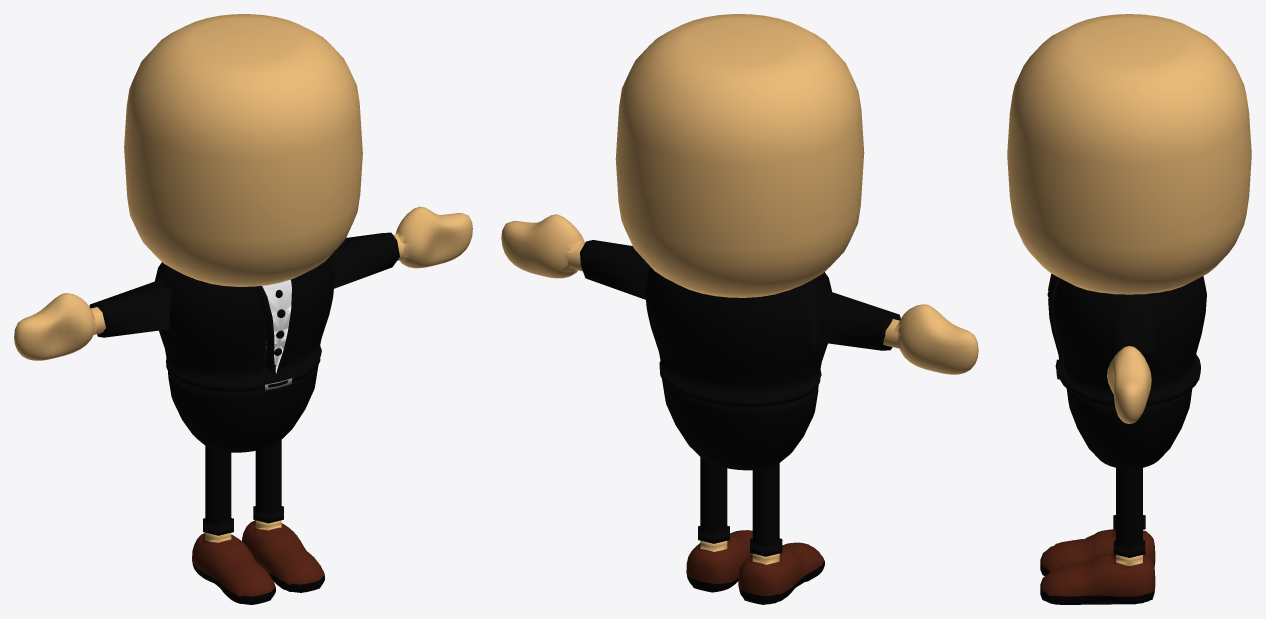
Rendered from Toon_Character.fbx.
3 renders of one model, left to right at view 1: azimuth 30°, elevation 25°; view 2: azimuth 150°, elevation 25°; view 3: azimuth 270°, elevation 25°, orthographic. The views are drawn at different scales.
Visible parts, largest first — view 1: Head, Body, Legs, Arms; view 2: Head, Body, Legs, Arms; view 3: Head, Body, Legs, Arms.
Boxes of the visible parts, x1,y1,x2,y2 form: Head: (124,14,362,286); Body: (89,232,399,452); Legs: (192,440,324,604); Arms: (14,206,472,360); Head: (615,14,864,297); Body: (580,240,900,470); Legs: (686,457,824,604); Arms: (501,214,978,374); Head: (1007,14,1251,294); Body: (1048,274,1206,469); Legs: (1040,468,1155,604); Arms: (1107,346,1151,423).
Size of the model in its own units: 337 by 371 by 152.
